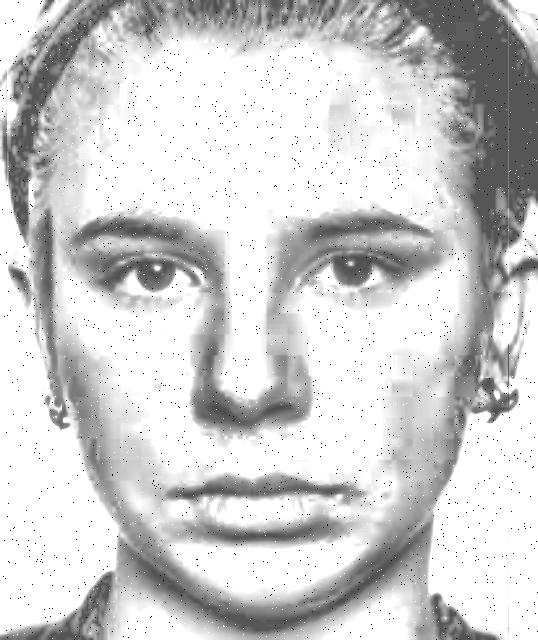neutral: (51, 33, 503, 629)
